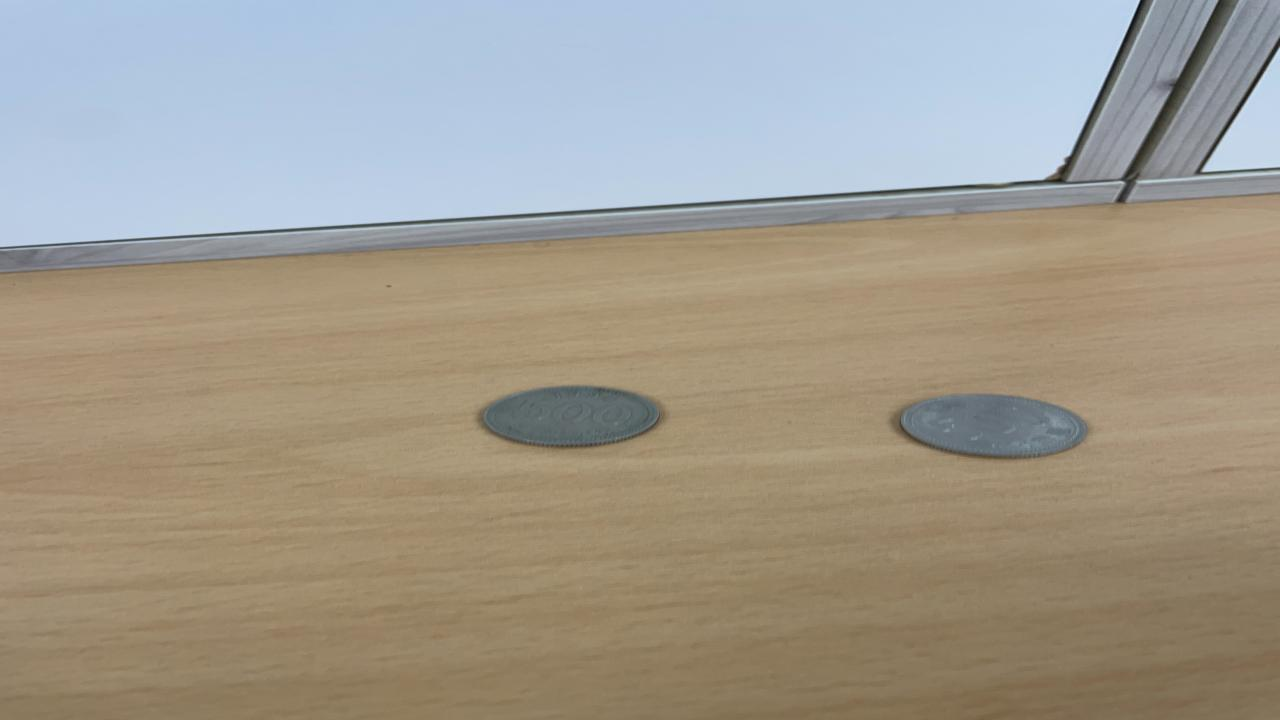coin: (889, 389, 1094, 460), (474, 381, 668, 449)
